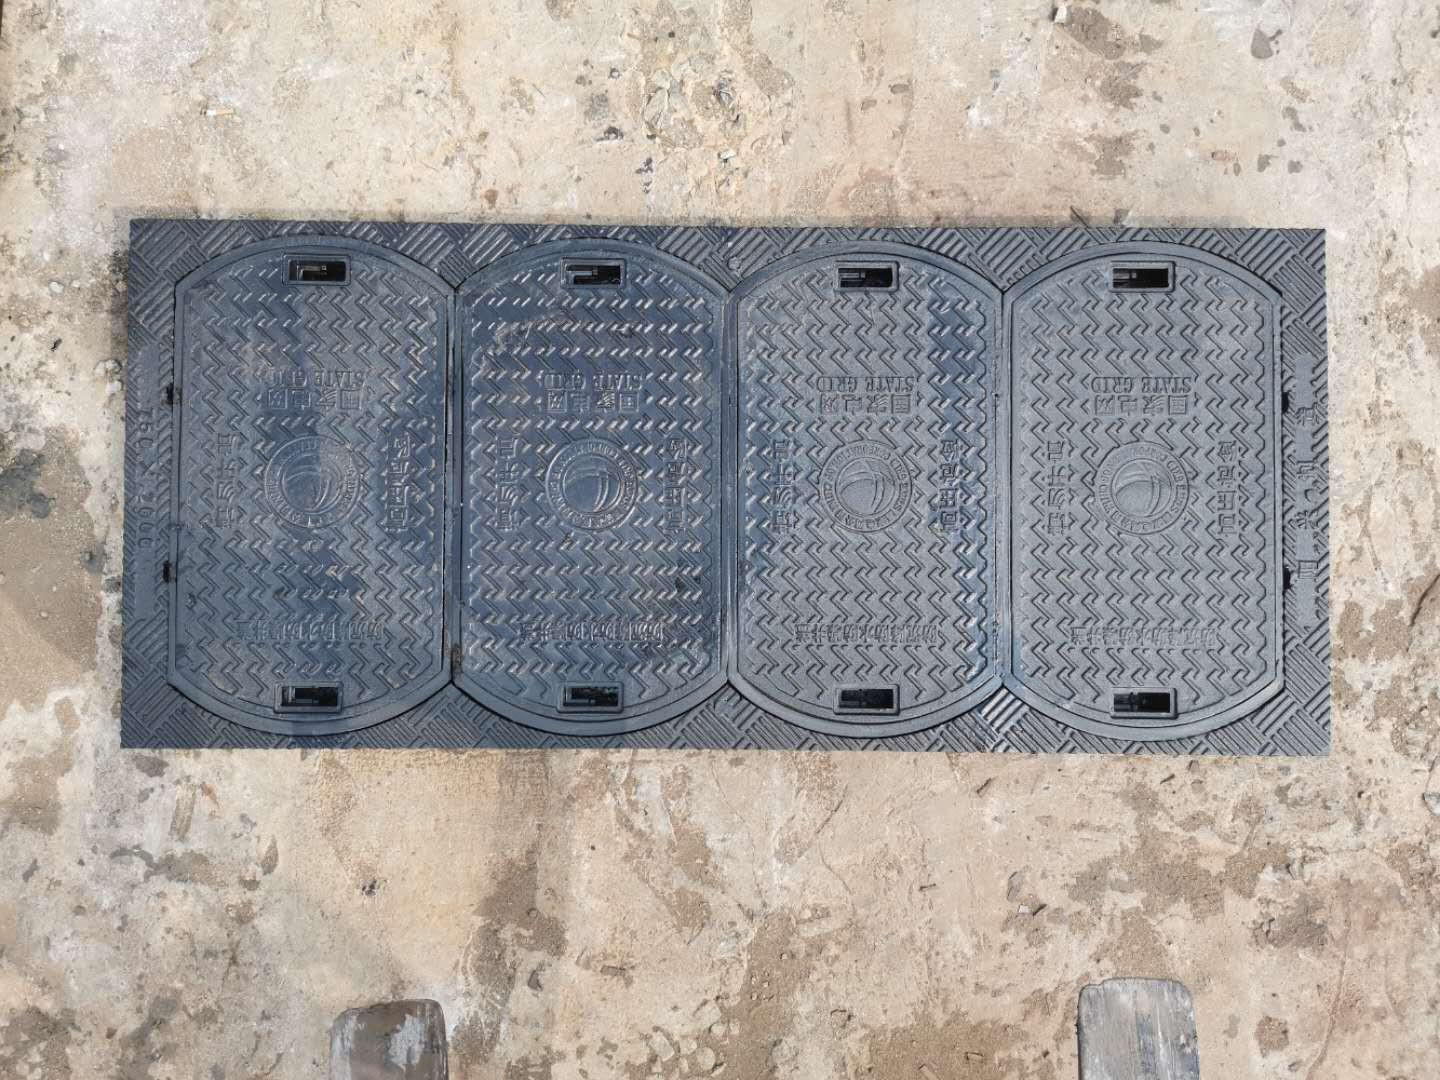wellcover: (137, 201, 1342, 760)
